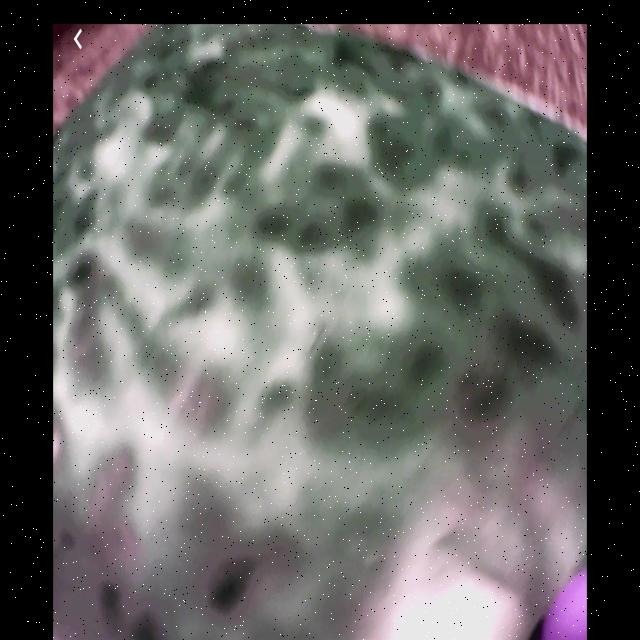ball: (539, 558, 586, 640)
